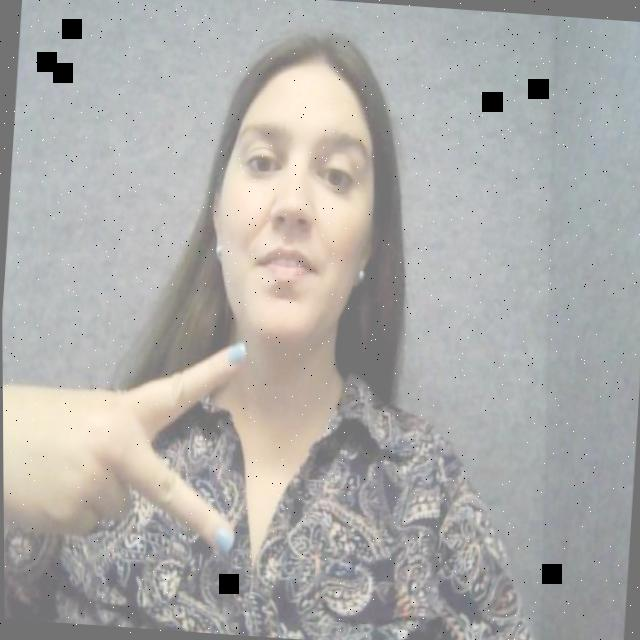Scissors: (2, 315, 278, 592)
